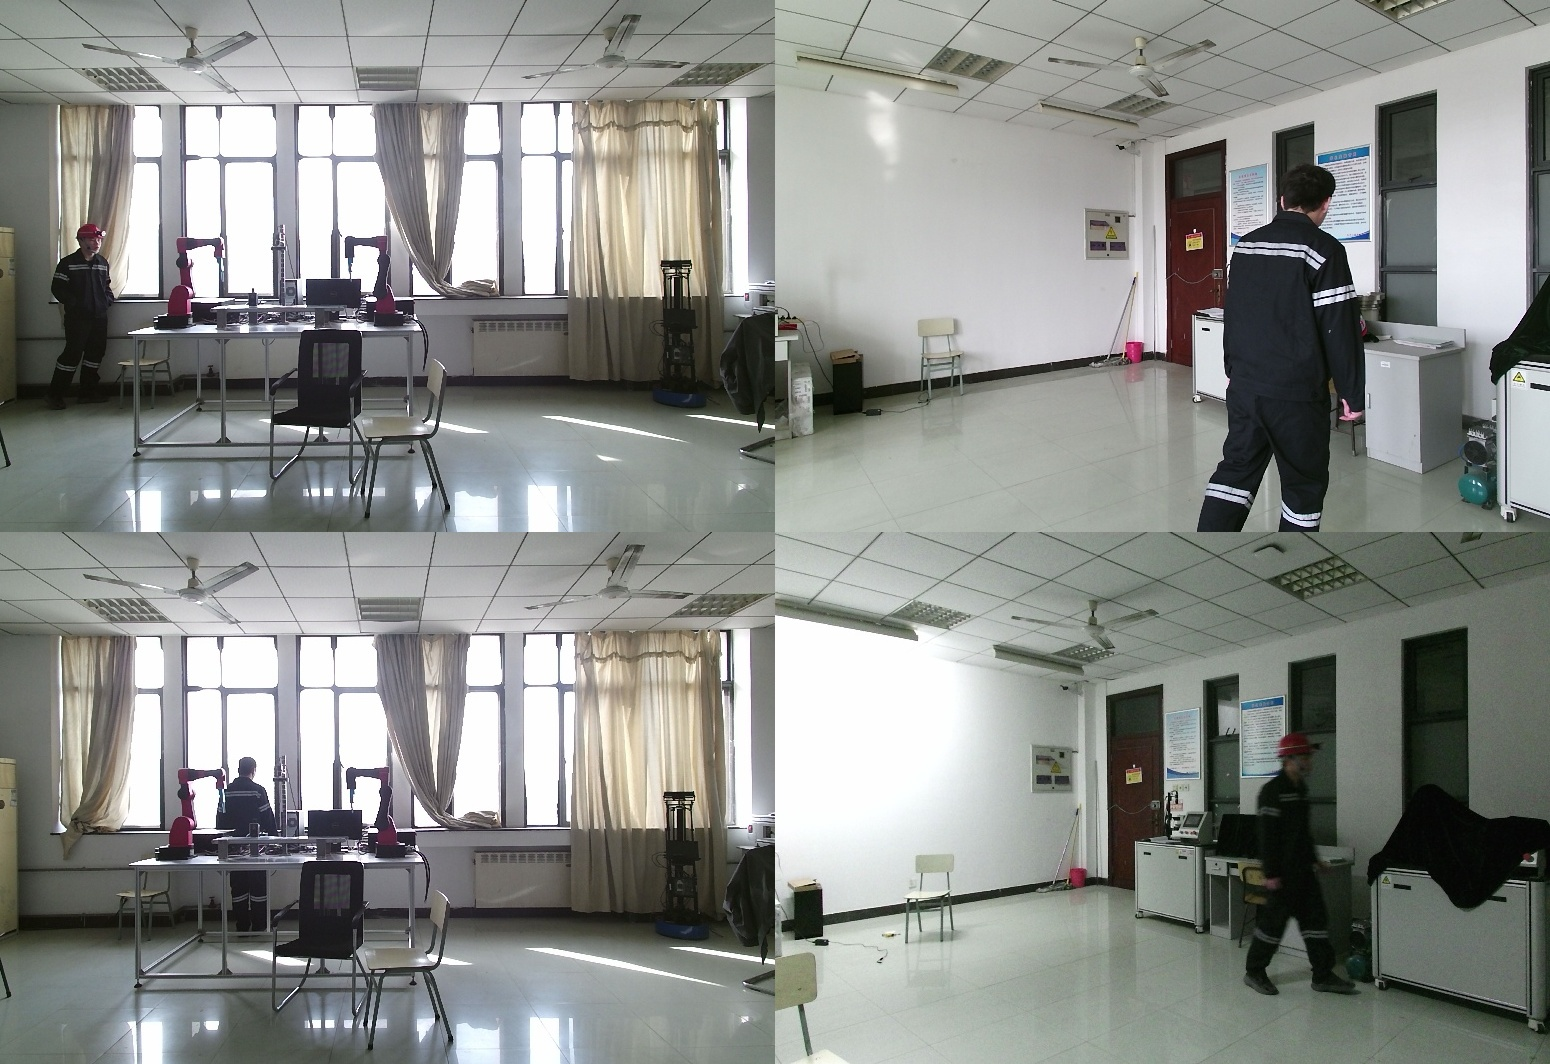person: (1196, 166, 1365, 532), (1239, 734, 1361, 995), (45, 222, 116, 409), (218, 760, 278, 942)
